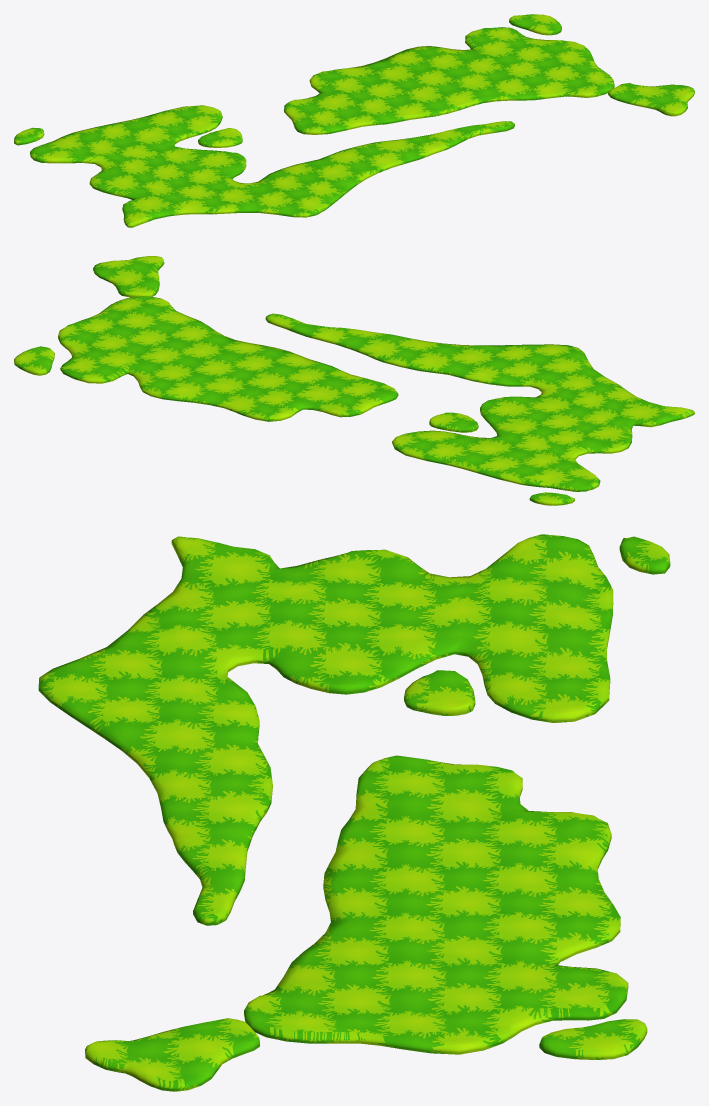
File: grassGround_2.fbx
3 views of the same model, one above another, from view 1: azimuth 30°, elevation 25°; view 2: azimuth 150°, elevation 25°; view 3: azimuth 270°, elevation 25° (orthographic). The views are drawn at different scales.
Visible parts, largest first — view 1: grassGround__1_; view 2: grassGround__1_; view 3: grassGround__1_.
Part boxes in pixels (left/top/right/bottom): grassGround__1_: left=14, top=14, right=694, bottom=227; grassGround__1_: left=14, top=256, right=694, bottom=505; grassGround__1_: left=38, top=534, right=670, bottom=1091.
Size of the model in its own units: 5828 by 37.1 by 2814.
Materials: 1 (1 with a texture image).
